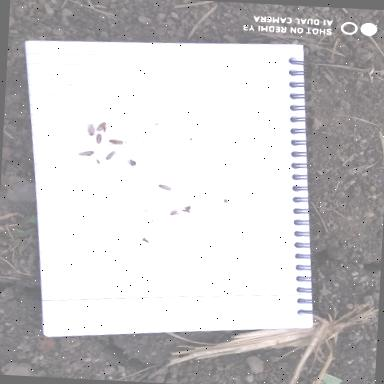pbw: (96, 120, 108, 133), (107, 138, 124, 146), (78, 150, 94, 158), (105, 150, 117, 160), (158, 184, 172, 192), (86, 124, 95, 136), (95, 132, 103, 144)
